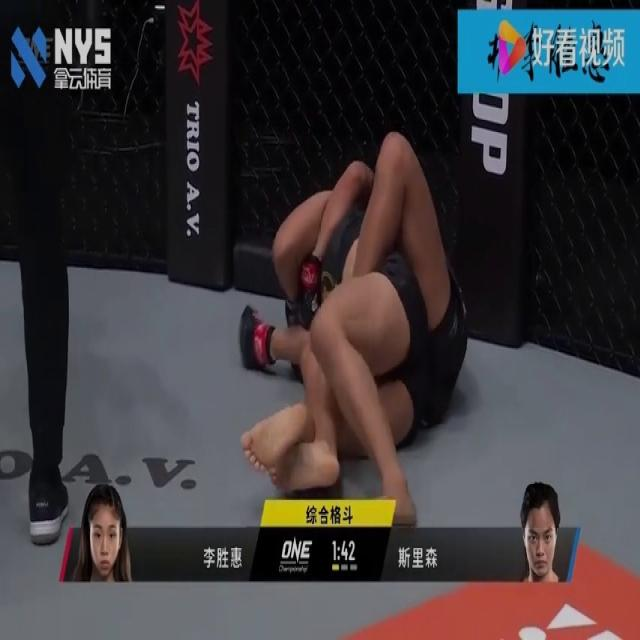fight: (228, 124, 484, 520)
